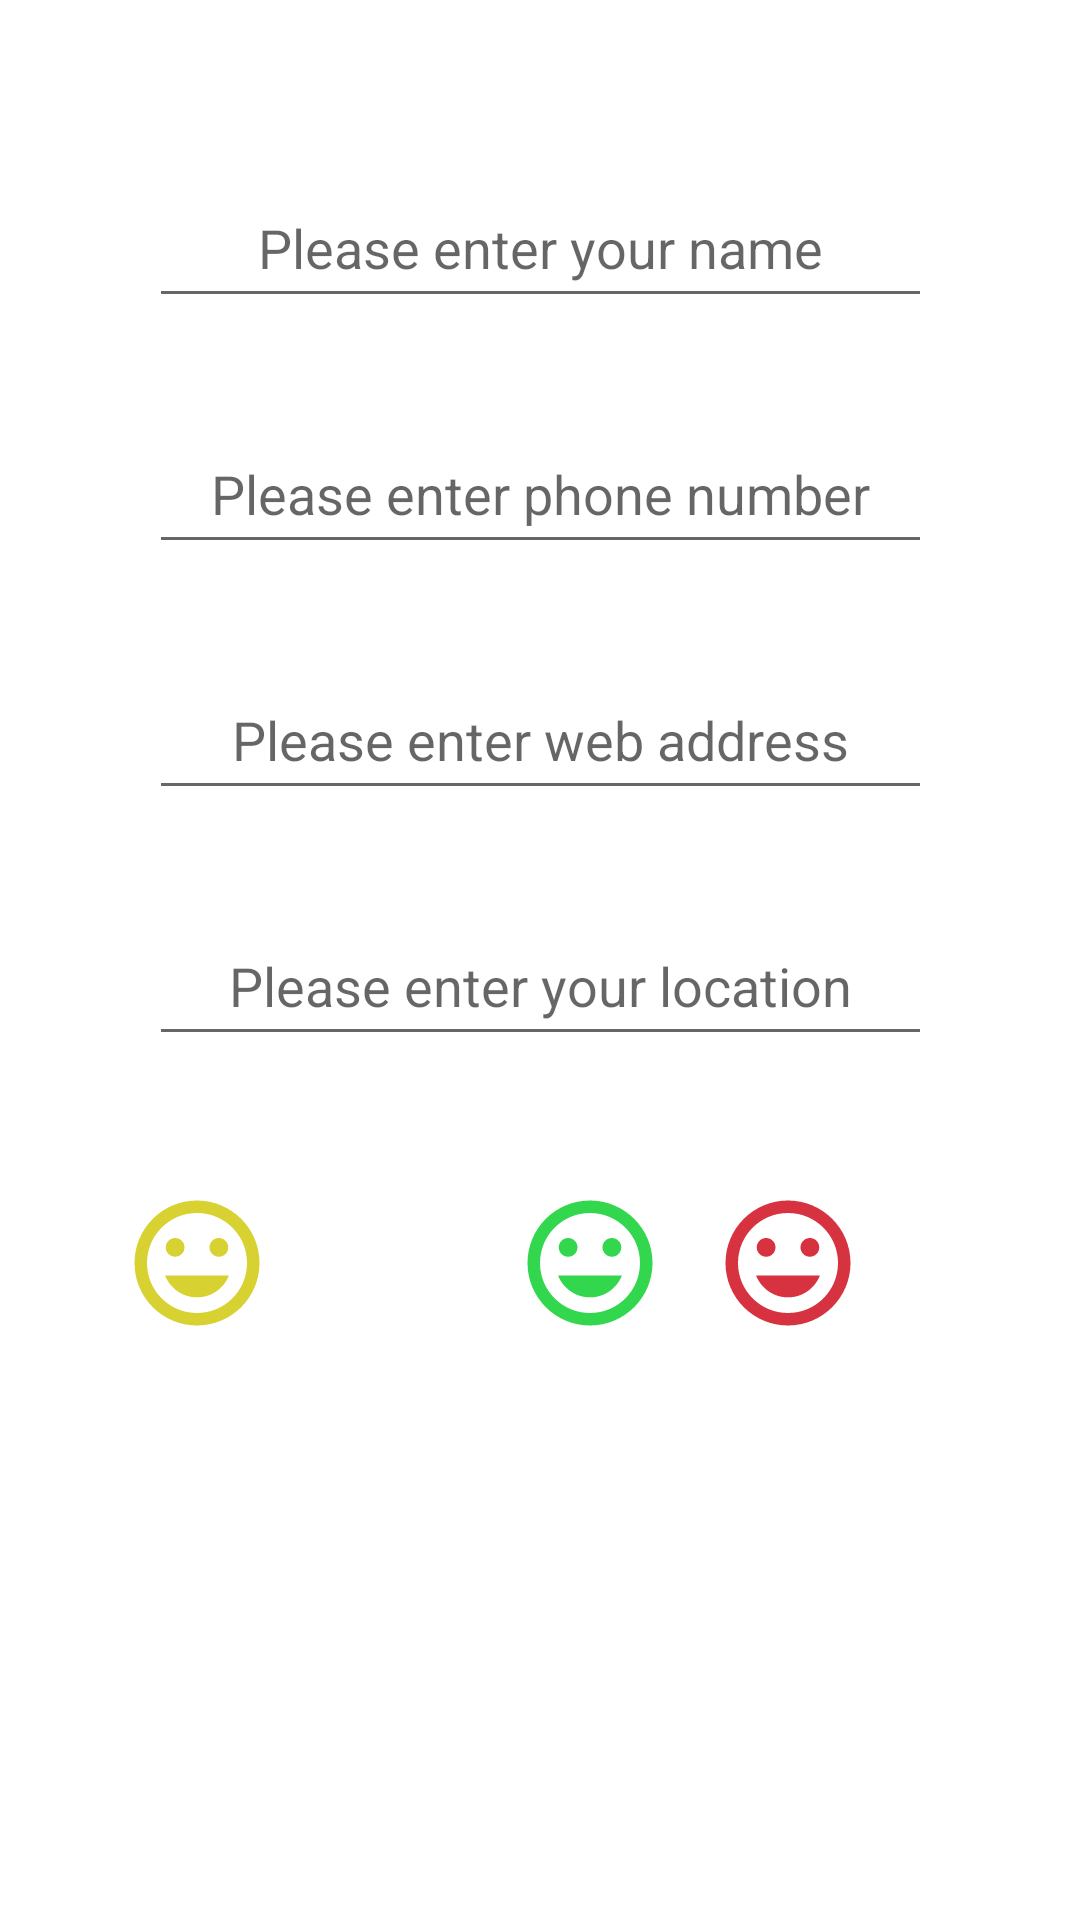

Point at icon controls on the screen. Image size 1080×1920, points as point (x, y).
Green happy face: point (590, 1263)
insert emoticon: point (197, 1263)
